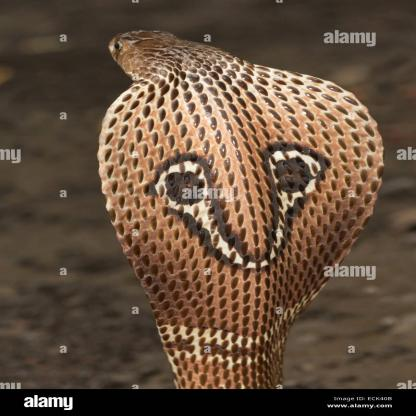Snake: (86, 24, 383, 388)
